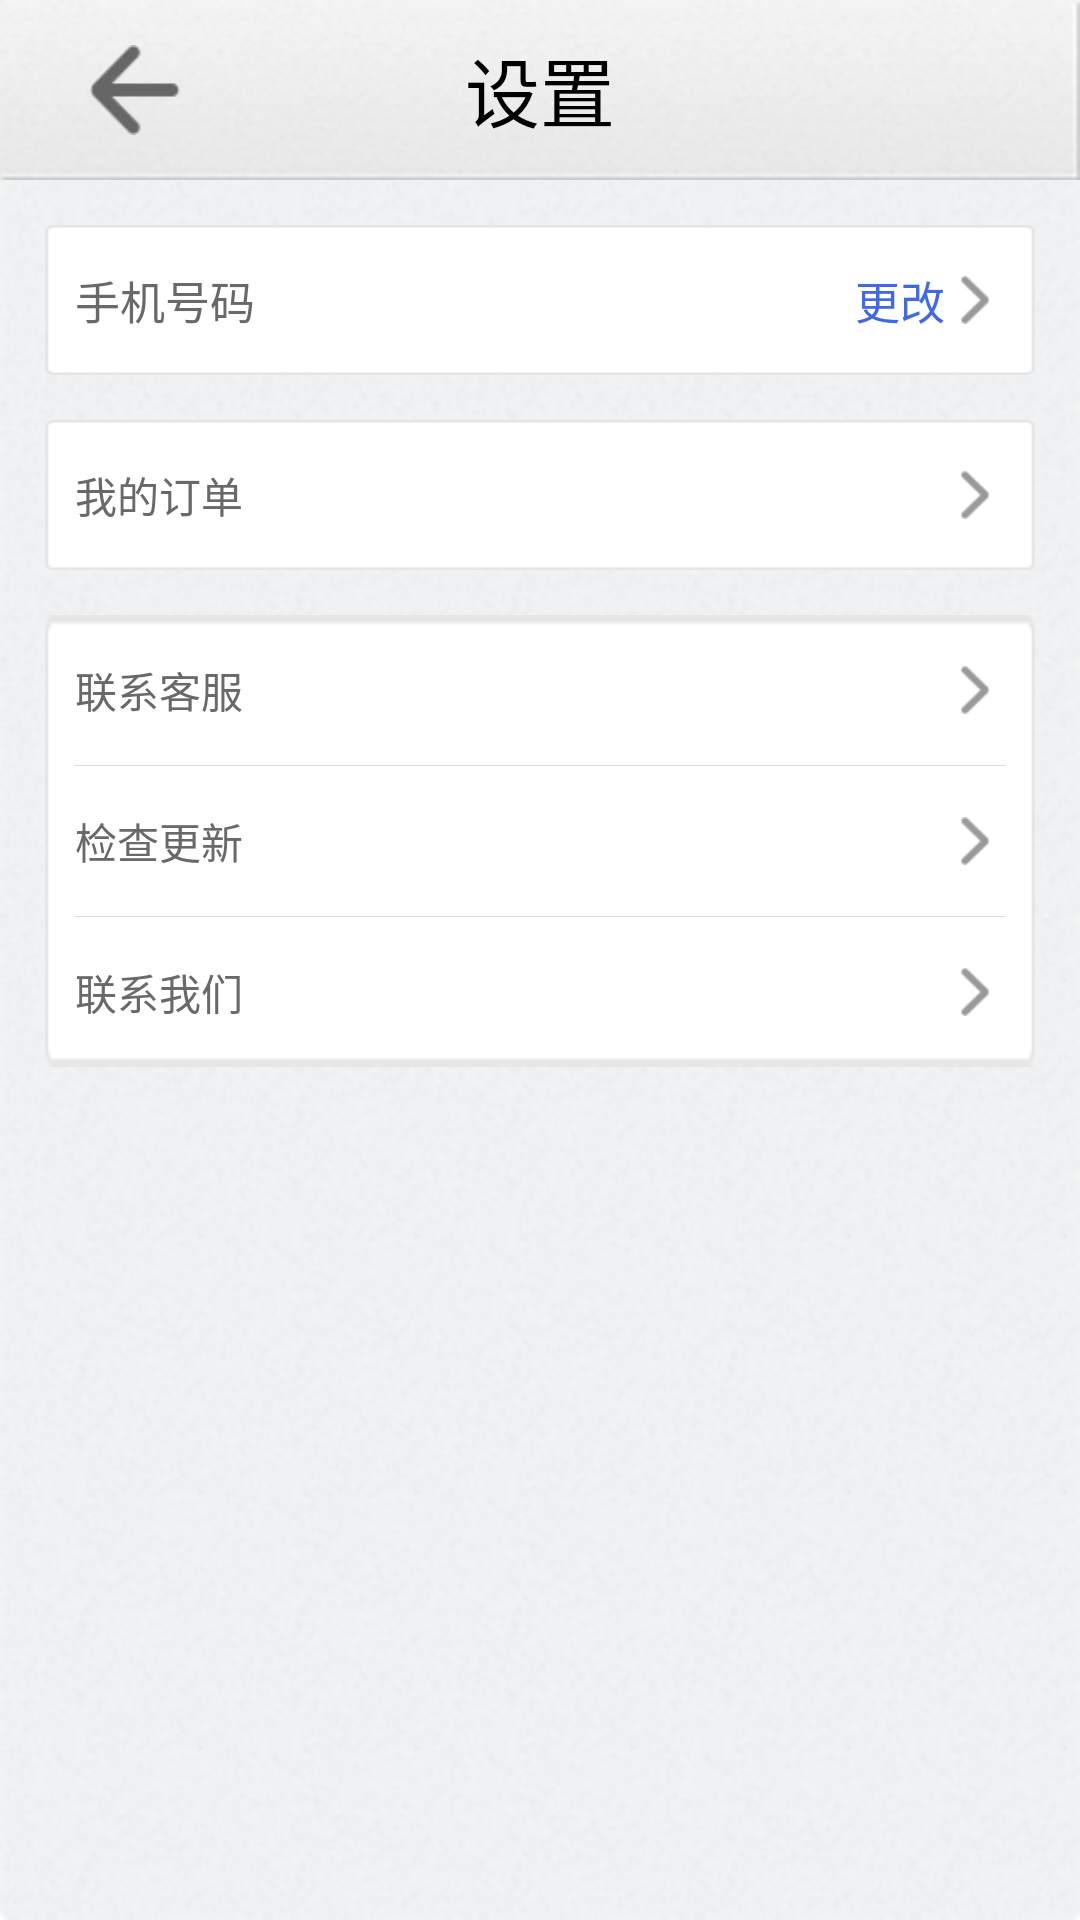

Locate icon controls on the screen. Image size 1080*1920, boxes as (x1,y1,x2,y2).
setting back: (90,45,179,135)
